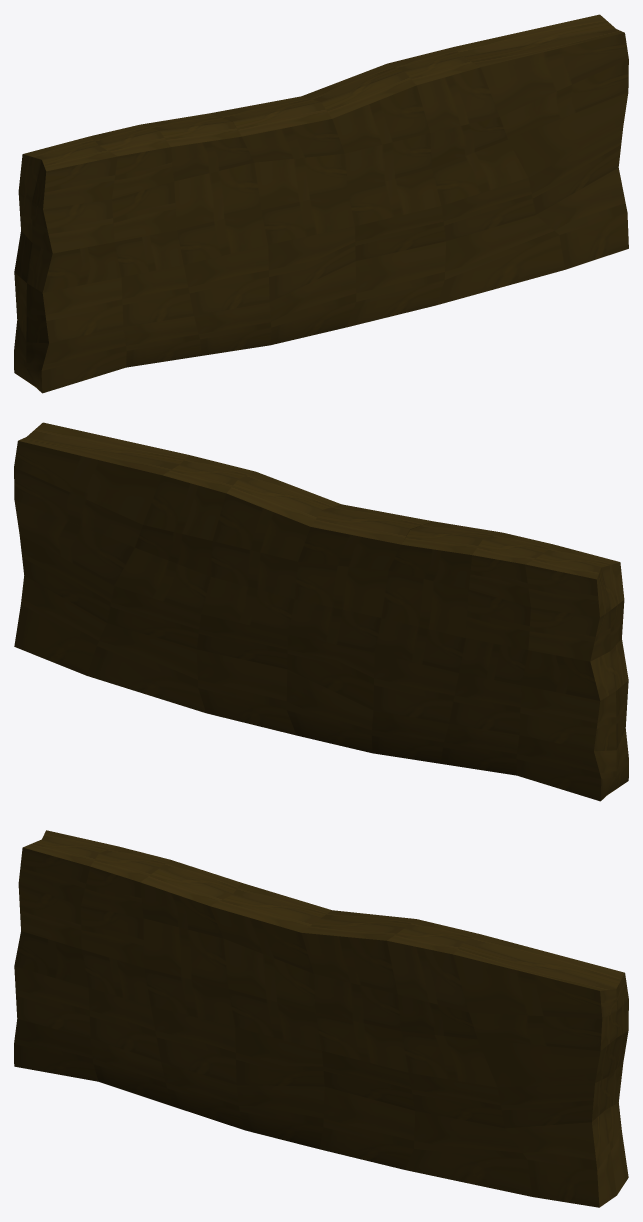
The model's file is planka main menu klar.fbx.
3 views of the same model, one above another, from view 1: azimuth 30°, elevation 25°; view 2: azimuth 150°, elevation 25°; view 3: azimuth 330°, elevation 25° (orthographic).
Visible parts, largest first — view 1: planka; view 2: planka; view 3: planka.
Boxes of the visible parts, left/top/right/bottom form: planka: left=14, top=14, right=628, bottom=393; planka: left=14, top=422, right=628, bottom=801; planka: left=14, top=830, right=628, bottom=1207.
Size of the model in its own units: 614 by 228 by 59.97.
